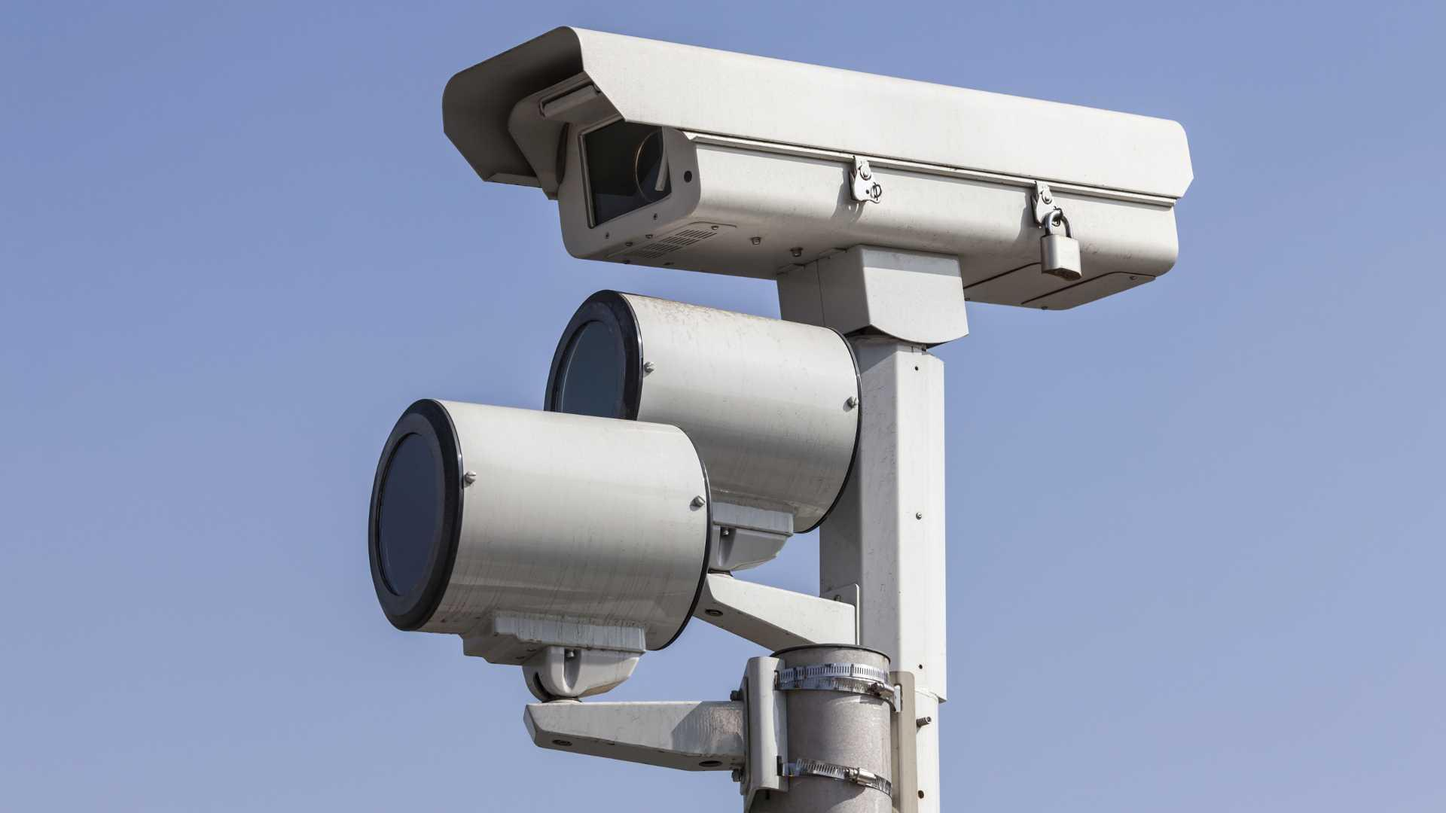Monitor: (304, 279, 865, 706), (419, 14, 1173, 323)
